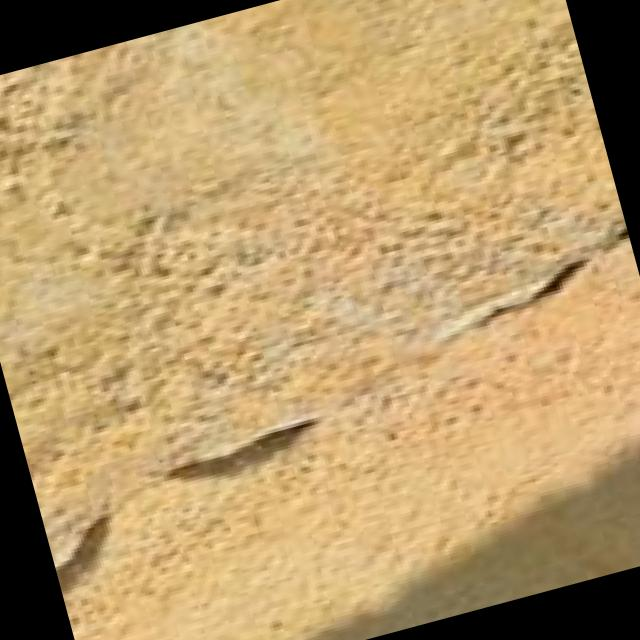crack: (3, 197, 640, 640)
